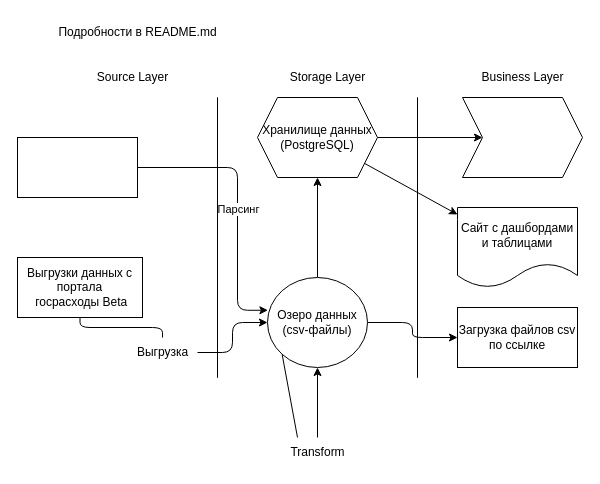
Image size: 600x484. Some labels were removed from this diagram. Here are the shapes that lost their labels. From the top down, the box of each, then its label:
(462, 96, 582, 178): Клиент SQL
(16, 136, 138, 198): Парсинг данных с zakupki.gov.ru
